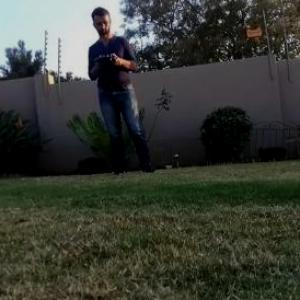follow: (84, 0, 163, 181)
